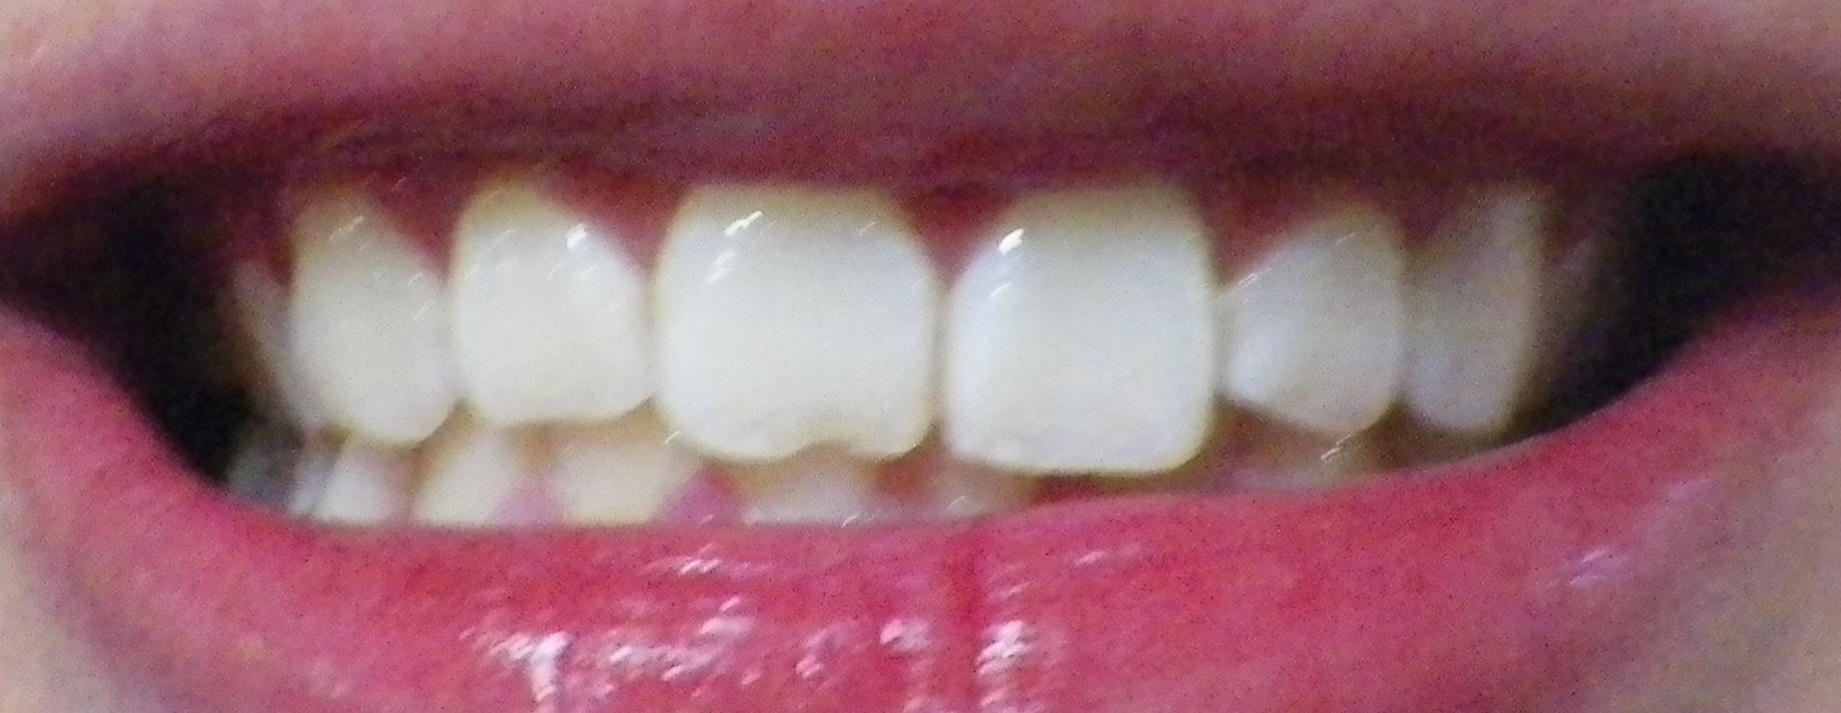boca: (218, 194, 1589, 523)
